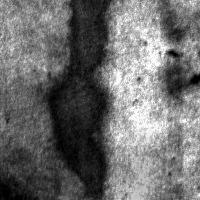patches: (48, 1, 110, 200), (0, 69, 90, 200), (113, 142, 177, 200), (160, 14, 199, 98), (0, 134, 43, 200)
